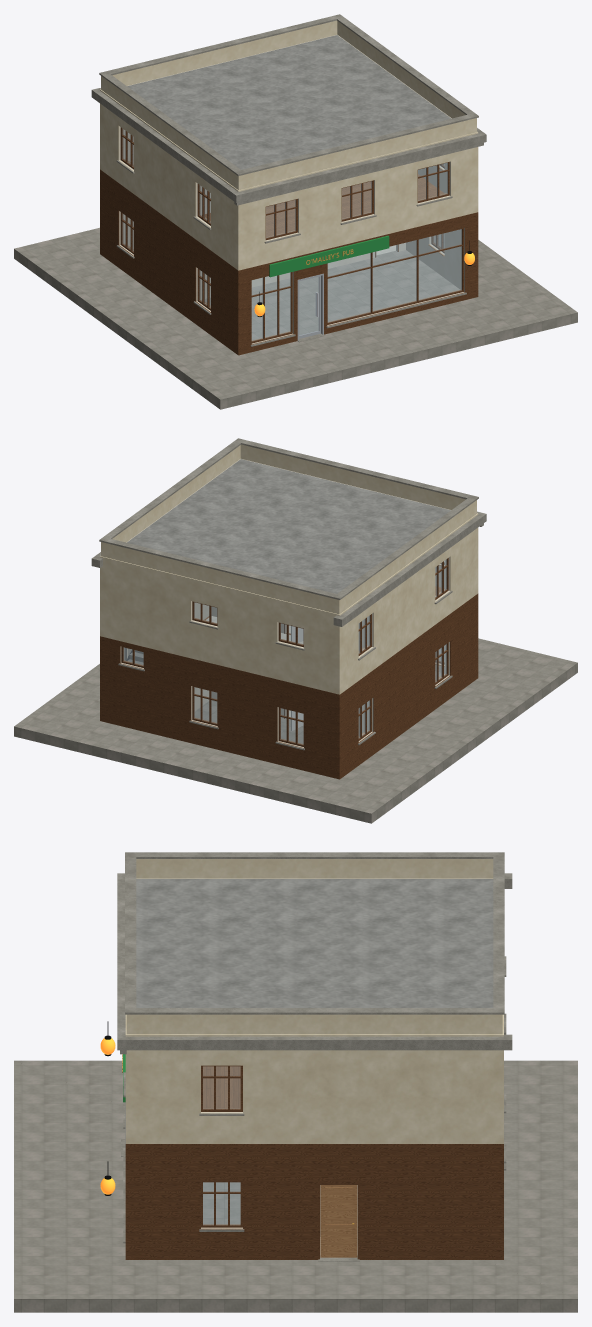
The model's file is b_irish_pub.gltf.
3 views of the same model, one above another, from view 1: azimuth 30°, elevation 25°; view 2: azimuth 150°, elevation 25°; view 3: azimuth 270°, elevation 25° (orthographic). The views are drawn at different scales.
Parts seen in each view (by area): view 1: S_irish_pub, D_irish_pub_F1_S2_Door0; view 2: S_irish_pub; view 3: S_irish_pub, D_irish_pub_F1_E1_Door0.
Boxes of the visible parts, x1,y1,x2,y2 form: S_irish_pub: (14,14,577,409); D_irish_pub_F1_S2_Door0: (299,275,320,338); S_irish_pub: (14,438,577,823); S_irish_pub: (14,852,577,1312); D_irish_pub_F1_E1_Door0: (320,1185,357,1257).
Size of the model in its own units: 15 by 7.66 by 15.
20 materials, 10 textured.
